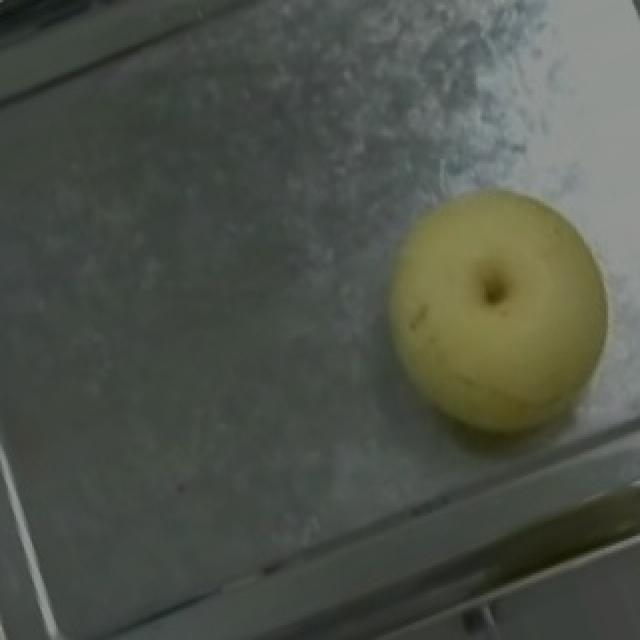Fruit: (336, 149, 640, 474)
